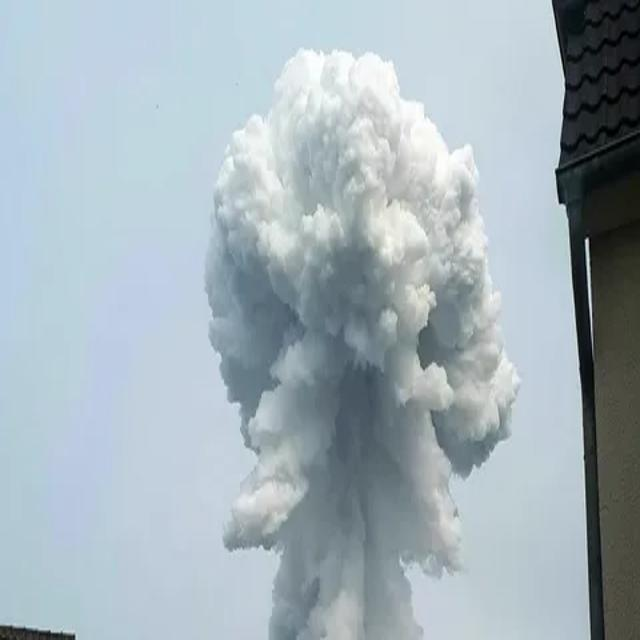Smoke: (206, 52, 522, 640)
